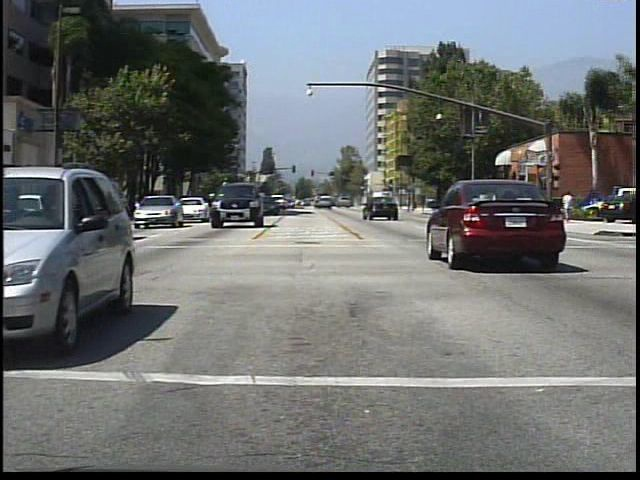person: (560, 188, 580, 233), (513, 190, 531, 227)
